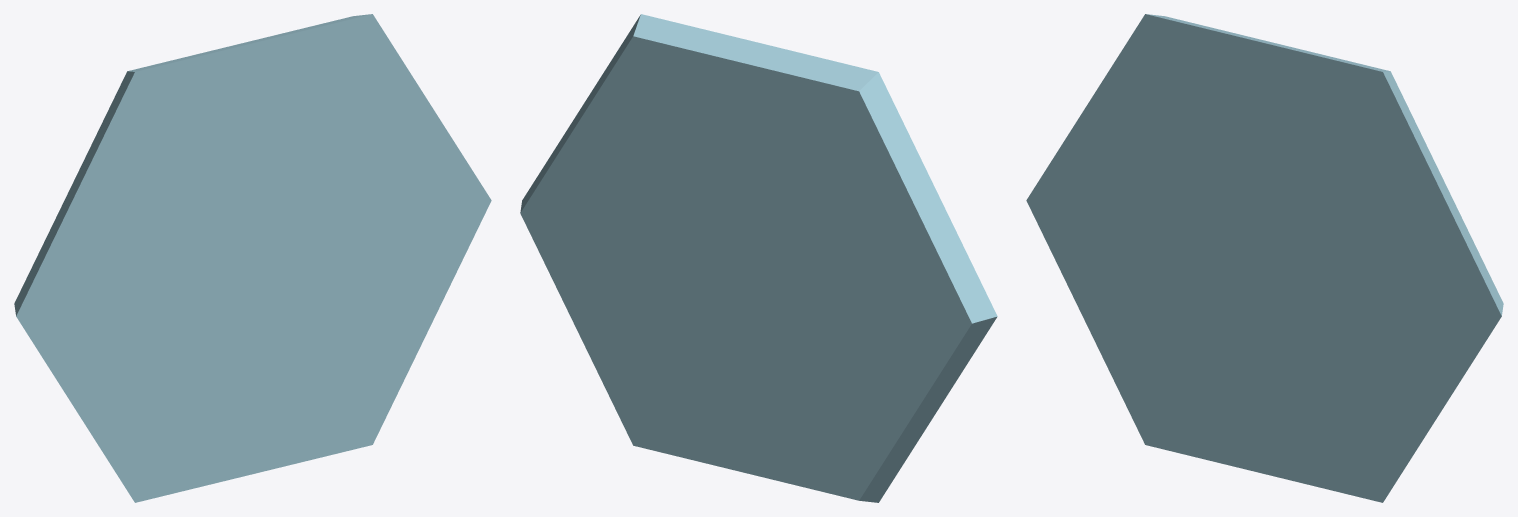
File: HexBase.fbx
3 views of the same model, side by side, from view 1: azimuth 30°, elevation 25°; view 2: azimuth 150°, elevation 25°; view 3: azimuth 330°, elevation 25° (orthographic).
Parts seen in each view (by area): view 1: Hex; view 2: Hex; view 3: Hex.
Boxes of the visible parts, x1,y1,x2,y2 form: Hex: (14,14,491,502); Hex: (520,14,997,502); Hex: (1026,14,1503,502).
Bounding box in the file's own units: 200 × 173 × 10.
